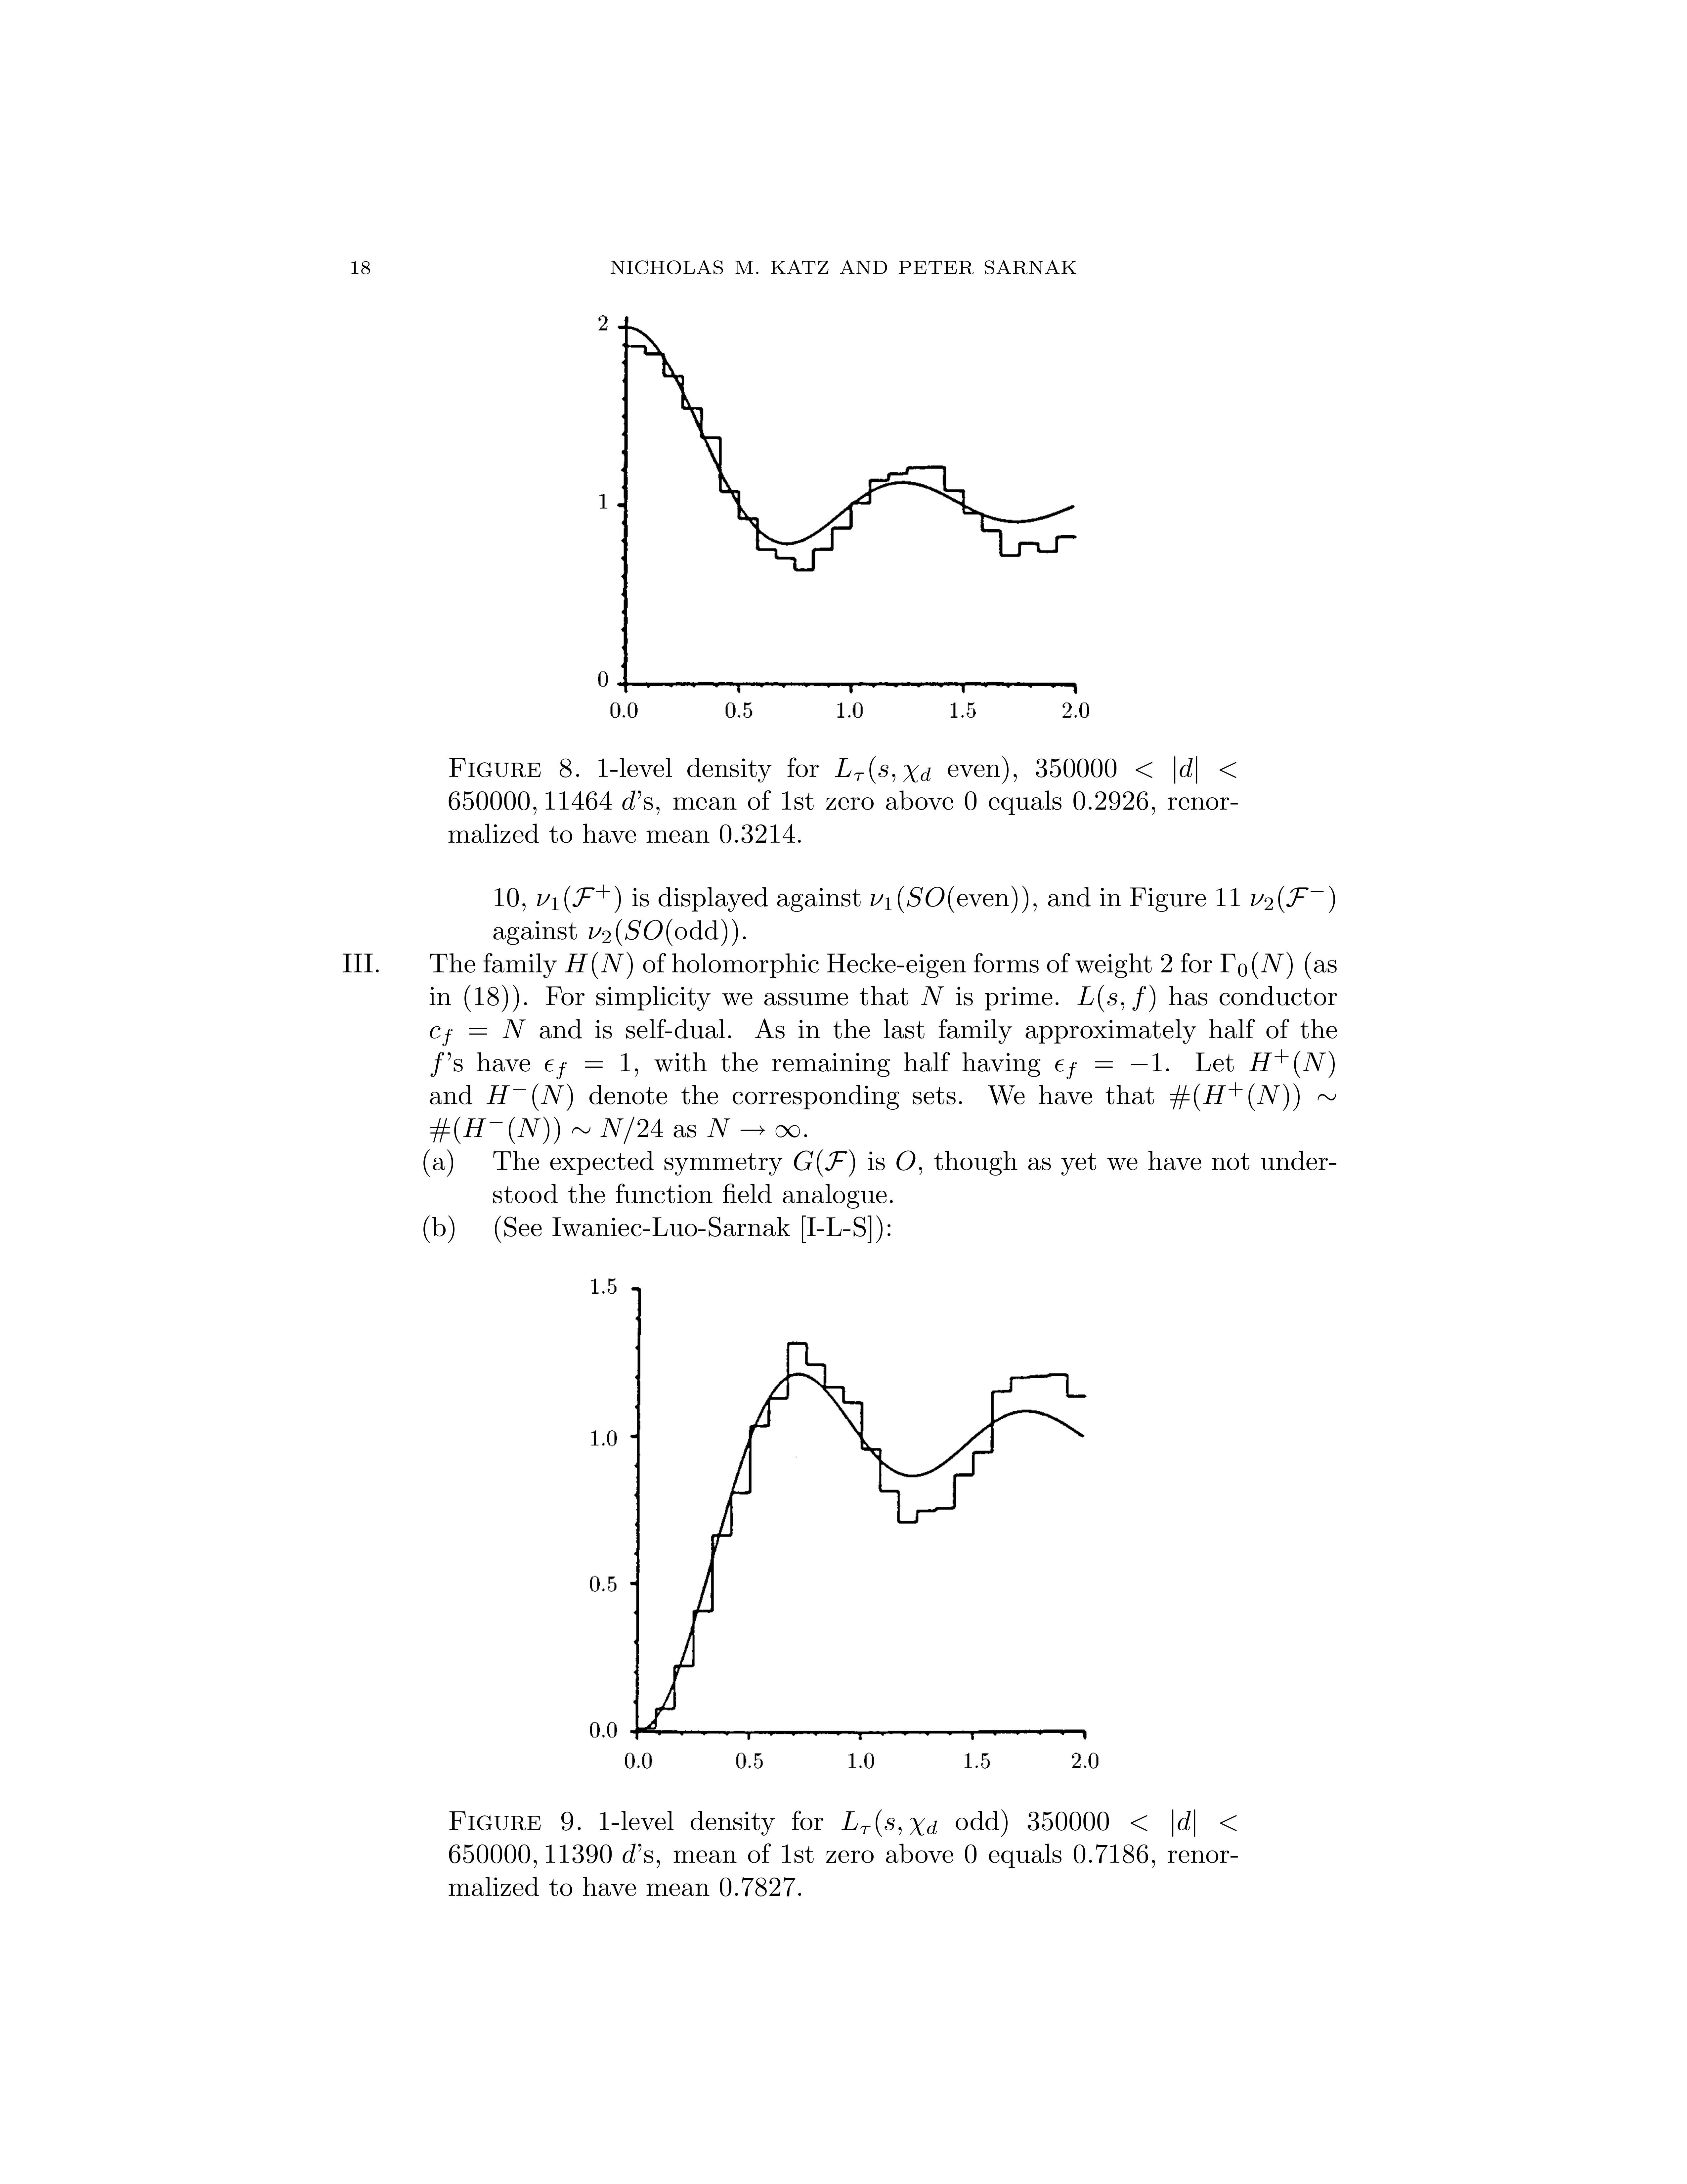maths: (431, 1117, 663, 1143), (1028, 1810, 1237, 1837), (1037, 757, 1237, 784), (1170, 1081, 1336, 1112), (1054, 1053, 1161, 1080), (429, 1019, 525, 1046), (1249, 1049, 1334, 1078), (487, 1083, 572, 1112), (537, 885, 620, 913), (544, 1053, 629, 1080), (1251, 886, 1334, 913), (1077, 984, 1155, 1012), (588, 918, 663, 947), (870, 886, 945, 913), (1221, 952, 1292, 979), (565, 952, 633, 979), (794, 1149, 854, 1177), (707, 1119, 799, 1136), (842, 1810, 902, 1837), (448, 791, 530, 810), (719, 824, 801, 844), (719, 1877, 796, 1897), (1074, 791, 1148, 810), (1074, 1844, 1148, 1863), (448, 1845, 530, 1863), (546, 791, 611, 810), (546, 1845, 611, 1863), (870, 757, 895, 784), (835, 759, 865, 780), (904, 764, 930, 782), (909, 1817, 936, 1835), (921, 986, 945, 1005), (897, 1151, 914, 1170), (431, 1053, 445, 1076), (622, 1844, 636, 1863), (622, 791, 634, 810), (966, 791, 976, 810), (966, 1845, 976, 1863), (599, 1812, 608, 1829), (732, 918, 737, 947), (1003, 757, 1008, 784), (1022, 886, 1028, 913), (1001, 1810, 1007, 1837)
